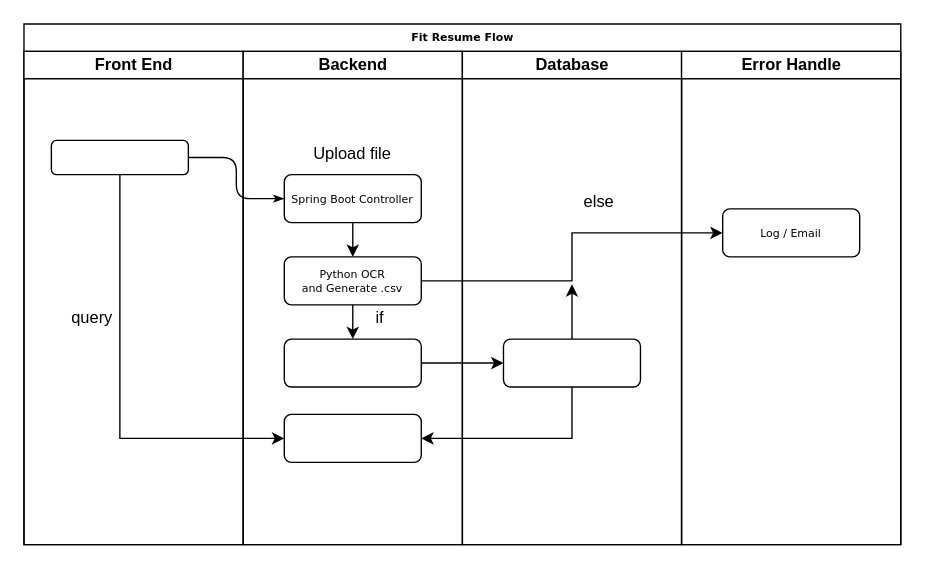
The diagram is 925 pixels wide and 569 high, and some of its shapes have lost their labels. Each missing label, with the centre of its shape:
Dashboard: the point at 119,157
Fit Resume File Process Monitoring: the point at 352,437
MongoDB: the point at 571,362
Spring Boot File Flow: the point at 352,362
